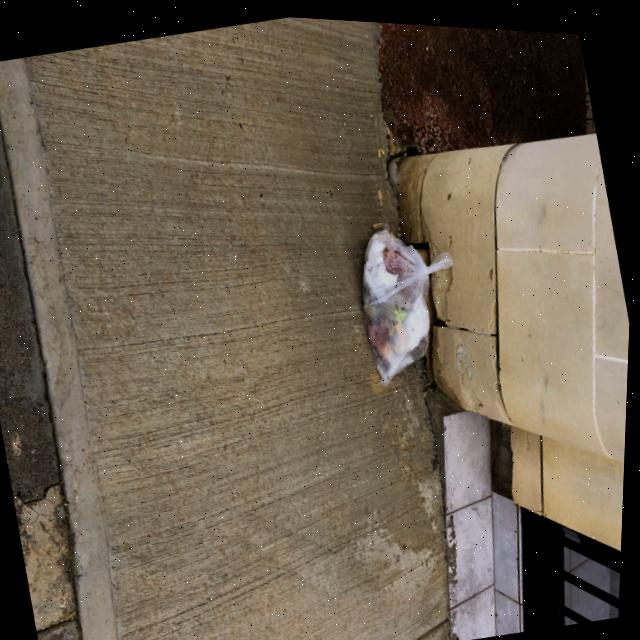Organic Waste -White Bag-: (337, 206, 482, 398)
